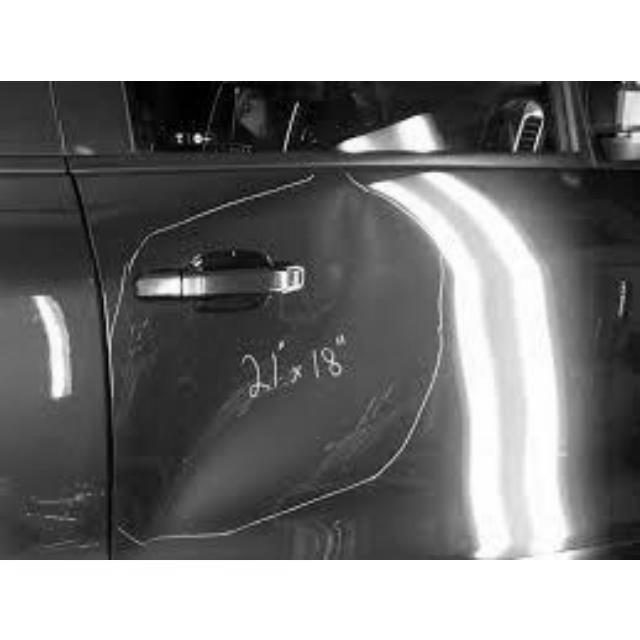doorouter-dent: (93, 184, 479, 551)
